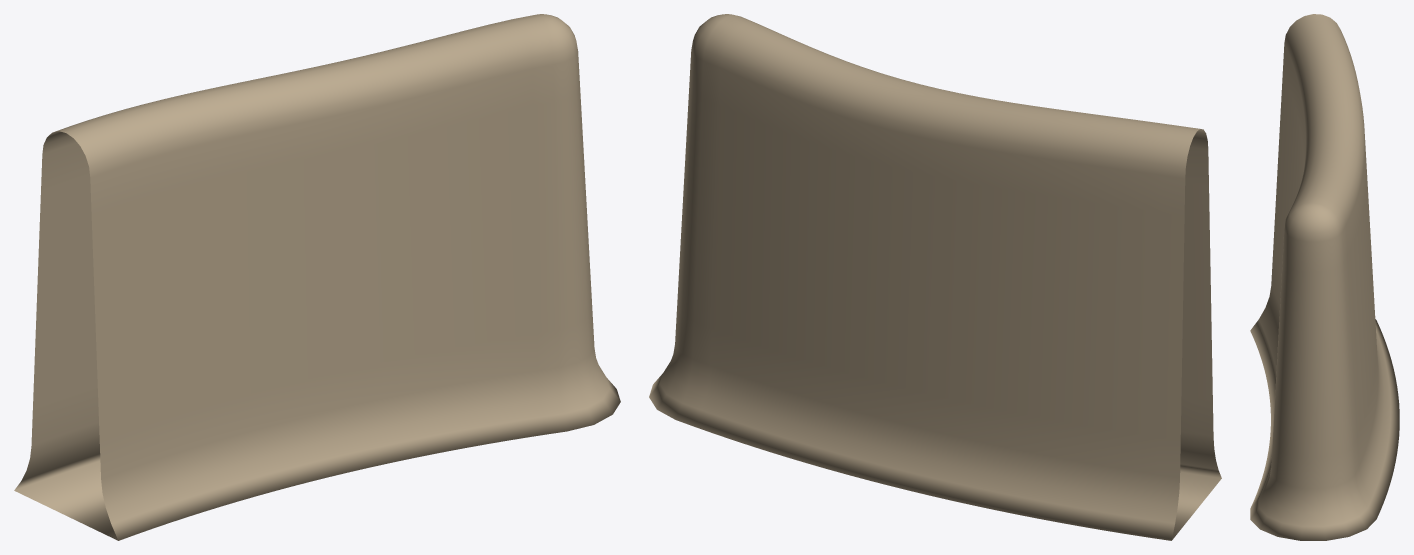
The model's file is KFB_Wall_curved_ring_r3_capA.r4.glb.
The picture shows the model from 3 angles, left to right: view 1: azimuth 30°, elevation 25°; view 2: azimuth 150°, elevation 25°; view 3: azimuth 270°, elevation 25°; orthographic projection. The views are drawn at different scales.
Parts seen in each view (by area): view 1: KFB_Wall_curved_ring_r3_capA; view 2: KFB_Wall_curved_ring_r3_capA; view 3: KFB_Wall_curved_ring_r3_capA.
Part boxes in pixels (x1,y1,x2,y2): KFB_Wall_curved_ring_r3_capA: (14,14,620,540); KFB_Wall_curved_ring_r3_capA: (649,14,1221,540); KFB_Wall_curved_ring_r3_capA: (1250,14,1399,540).
Size of the model in its own units: 5.48 by 3.6 by 1.57.
